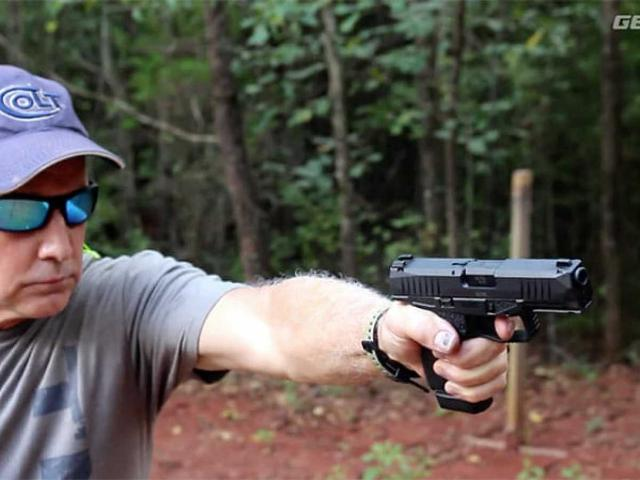handgun: (383, 250, 601, 418)
